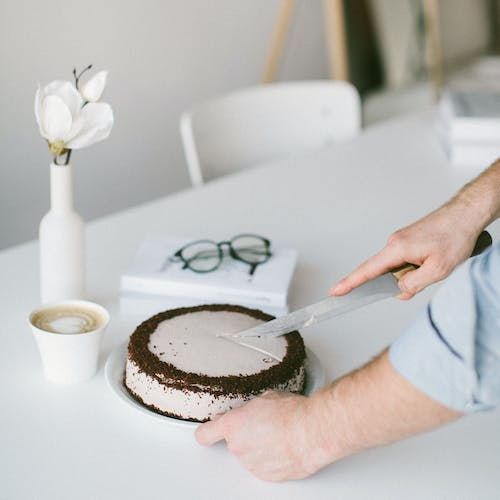knife: (230, 228, 493, 339)
